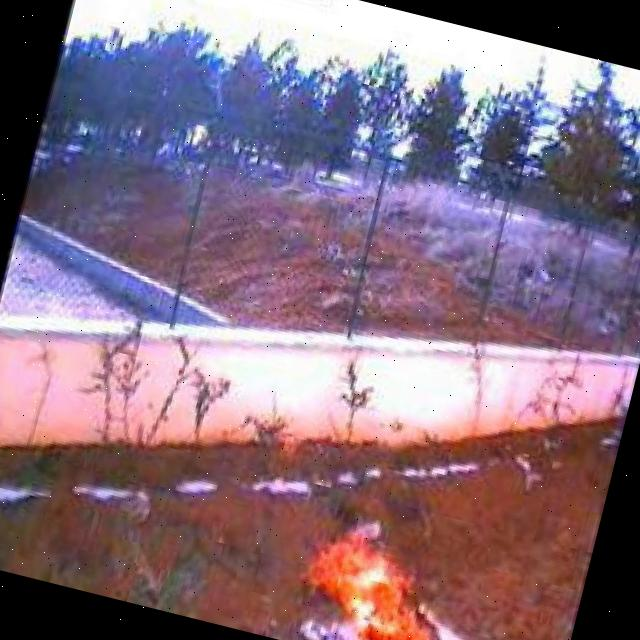fire: (286, 516, 467, 640)
